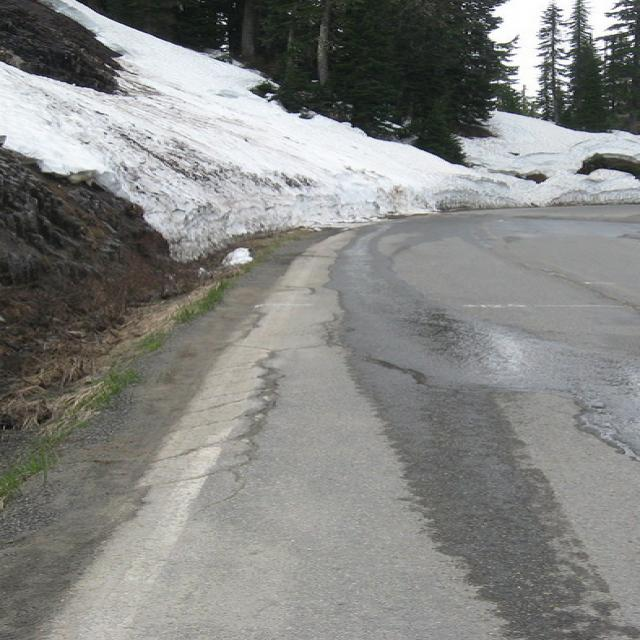Pothole: (37, 177, 294, 640)
